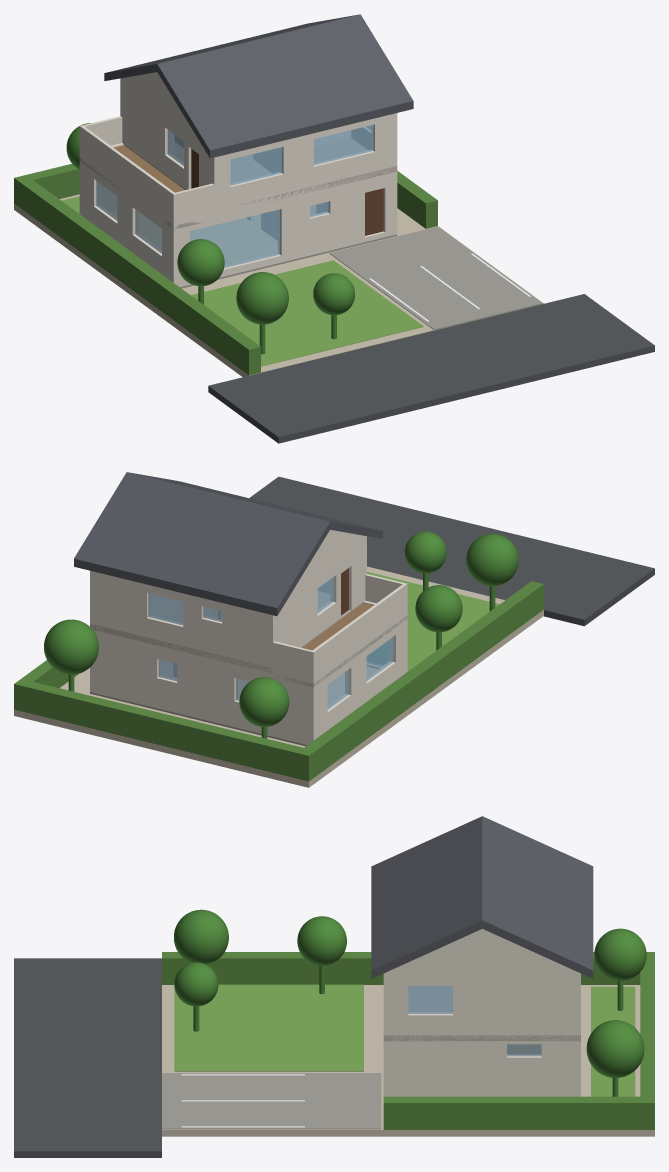
The model's file is house.glb.
3 views of the same model, one above another, from view 1: azimuth 30°, elevation 25°; view 2: azimuth 150°, elevation 25°; view 3: azimuth 270°, elevation 25° (orthographic). The views are drawn at different scales.
Parts seen in each view (by area): view 1: road_6m, roof_RS1/part31, walls_1f, walls_2f, parking_pave, garden, hedge_1200/part10, lot_290m2, terrace_parapet_1200, wins_1f/part66, floor_1f_buildup, slab_S1 (+12 smaller); view 2: roof_RS1/part32, walls_1f, road_6m, walls_2f, hedge_1200/part11, hedge_1200/part10, lot_290m2, terrace_parapet_1200, garden, trees/part20, trees/part14, trees/part22 (+14 smaller); view 3: road_6m, garden, roof_RS1/part32, roof_RS1/part31, parking_pave, walls_2f, walls_1f, hedge_1200/part12, lot_290m2, hedge_1200/part10, gables/part30, trees/part20 (+8 smaller).
Boxes of the visible parts, x1,y1,x2,y2 form: road_6m: [208, 294, 654, 443]; roof_RS1/part31: [157, 14, 413, 158]; walls_1f: [79, 143, 397, 287]; walls_2f: [120, 78, 397, 210]; parking_pave: [329, 226, 542, 329]; garden: [191, 260, 423, 366]; hedge_1200/part10: [14, 175, 260, 375]; lot_290m2: [14, 194, 543, 376]; terrace_parapet_1200: [79, 116, 214, 226]; wins_1f/part66: [190, 209, 279, 267]; floor_1f_buildup: [110, 210, 277, 265]; slab_S1: [124, 138, 397, 207]; roof_RS1/part32: [74, 472, 329, 616]; walls_1f: [90, 600, 407, 744]; road_6m: [249, 476, 654, 626]; walls_2f: [90, 536, 366, 667]; hedge_1200/part11: [14, 680, 312, 780]; hedge_1200/part10: [296, 581, 543, 781]; lot_290m2: [14, 566, 543, 787]; terrace_parapet_1200: [272, 574, 407, 686]; garden: [367, 572, 499, 670]; trees/part20: [44, 619, 98, 674]; trees/part14: [466, 533, 518, 586]; trees/part22: [239, 677, 289, 726]; road_6m: [14, 958, 161, 1157]; garden: [174, 984, 363, 1071]; roof_RS1/part32: [482, 816, 593, 978]; roof_RS1/part31: [371, 816, 482, 978]; parking_pave: [162, 1073, 381, 1129]; walls_2f: [383, 968, 580, 1035]; walls_1f: [383, 1035, 580, 1096]; hedge_1200/part12: [383, 1096, 654, 1129]; lot_290m2: [162, 985, 654, 1136]; hedge_1200/part10: [162, 952, 654, 984]; gables/part30: [396, 929, 568, 968]; trees/part20: [586, 1020, 644, 1077].
Size of the model in its own units: 18.5 by 9.6 by 26.
